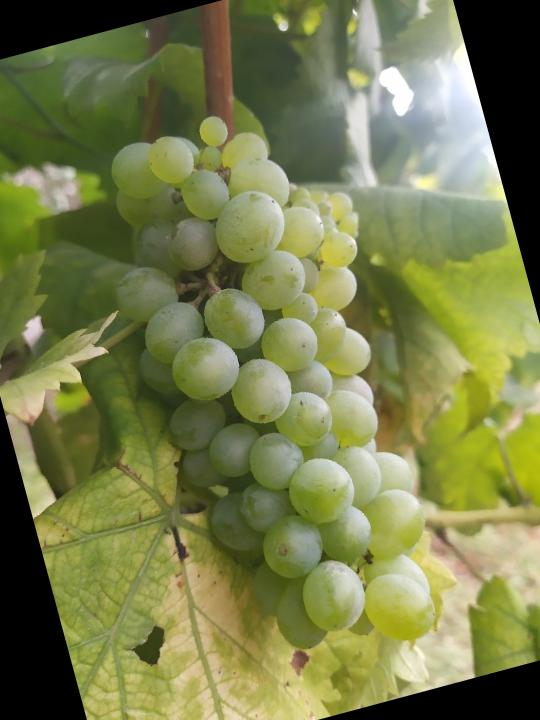grape: (71, 87, 463, 697)
